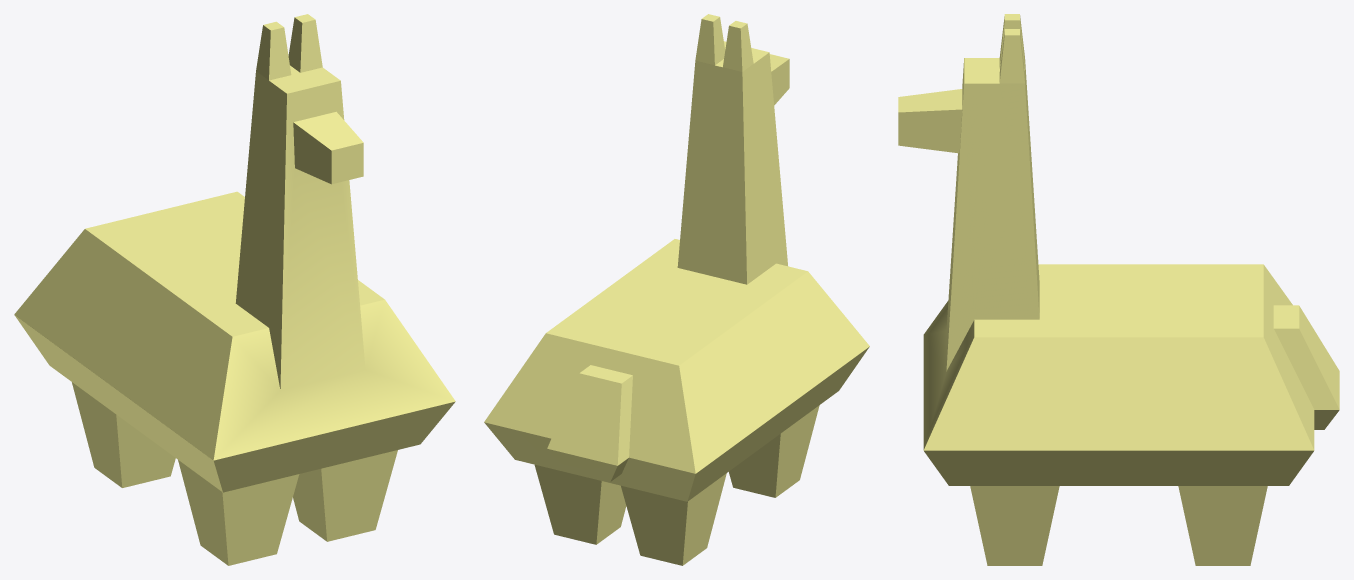
The model's file is llamaModel.glb.
The picture shows the model from 3 angles, left to right: view 1: azimuth 30°, elevation 25°; view 2: azimuth 150°, elevation 25°; view 3: azimuth 270°, elevation 25°; orthographic projection. The views are drawn at different scales.
Visible parts, largest first — view 1: Shiny Jofo-Jaiks_Material.001_0; view 2: Shiny Jofo-Jaiks_Material.001_0; view 3: Shiny Jofo-Jaiks_Material.001_0.
Boxes of the visible parts, x1,y1,x2,y2 form: Shiny Jofo-Jaiks_Material.001_0: (14,14,455,565); Shiny Jofo-Jaiks_Material.001_0: (484,14,869,565); Shiny Jofo-Jaiks_Material.001_0: (898,14,1339,565).
Size of the model in its own units: 3.37 by 6.87 by 5.44.
